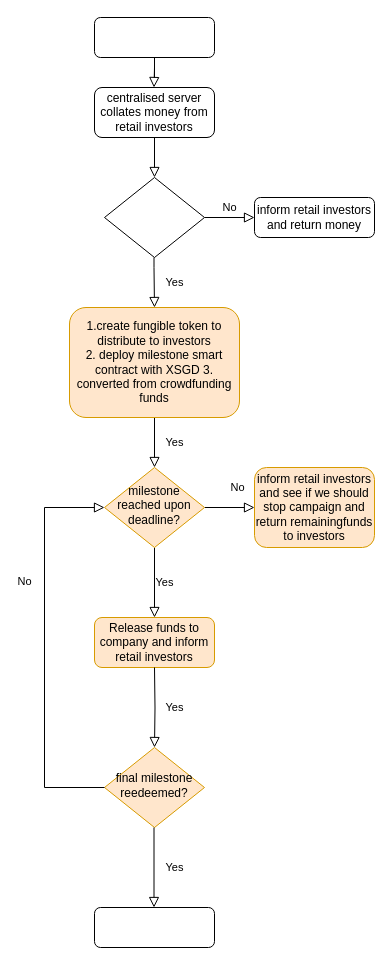
Image size: 392x965. Some labels were removed from this diagram. Each missing label, with the box of its shape:
Close Campaign: (94, 906, 214, 948)
crowdfunding goal reached?: (104, 176, 204, 258)
Start Campaign: (94, 16, 214, 58)
